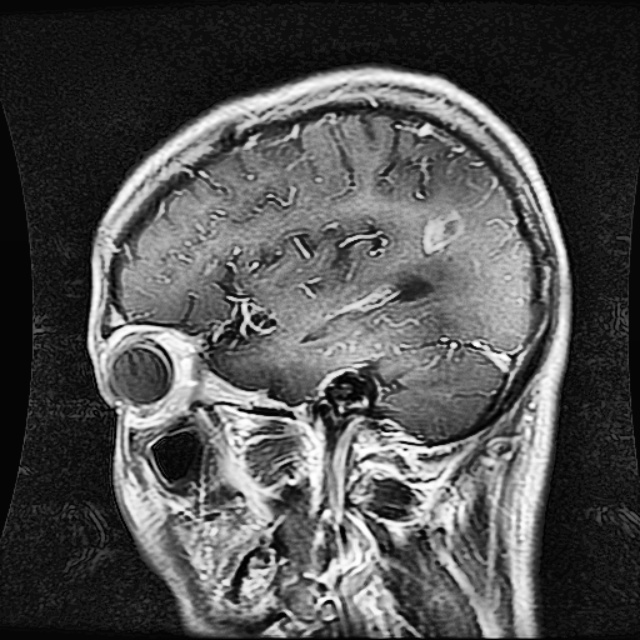Meningioma: (423, 209, 463, 252)
